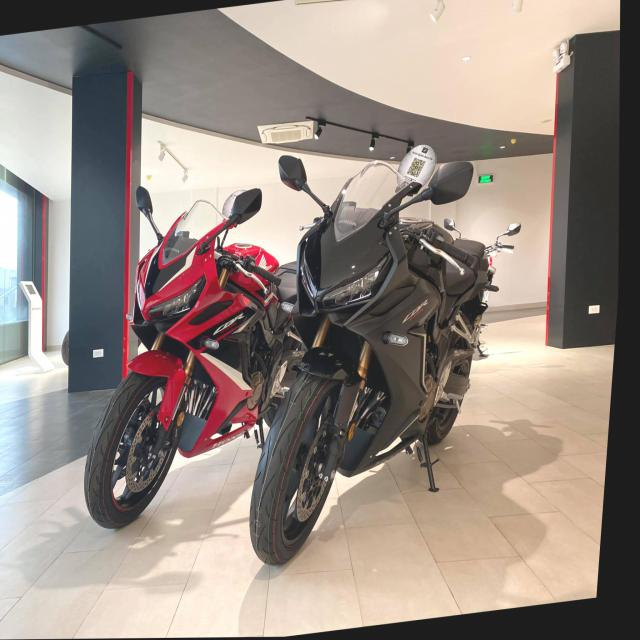CBR650R: (231, 128, 524, 572), (70, 192, 299, 530)
